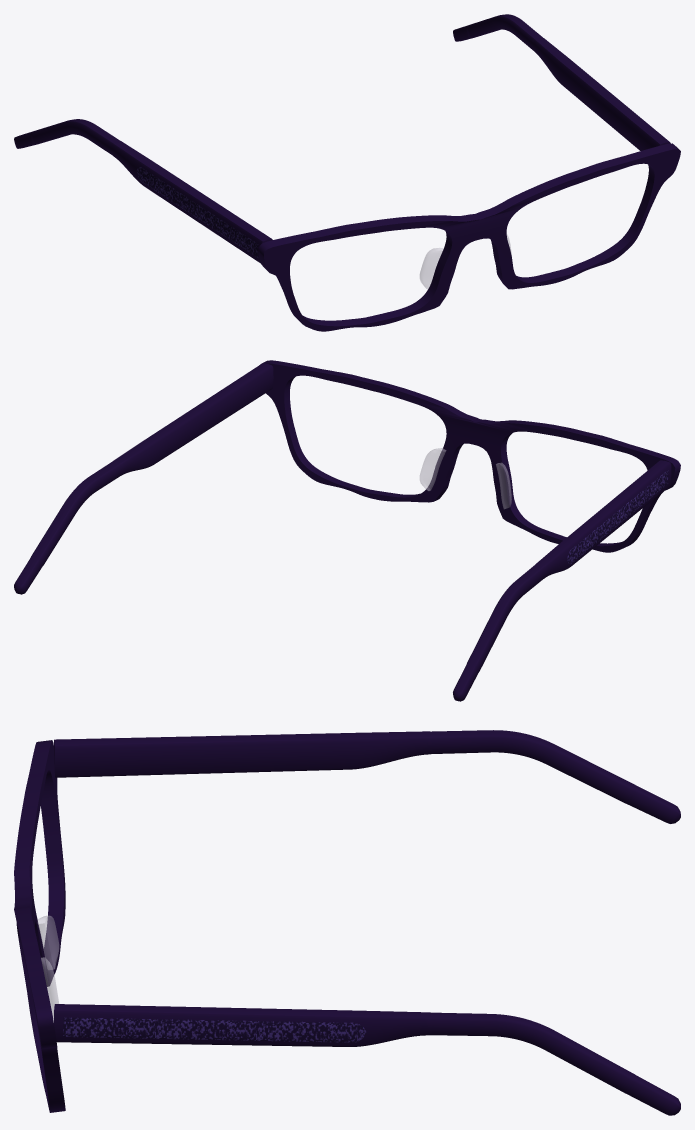
File: trendi-metro-morado-3d.glb
3 views of the same model, one above another, from view 1: azimuth 30°, elevation 25°; view 2: azimuth 150°, elevation 25°; view 3: azimuth 270°, elevation 25° (orthographic). The views are drawn at different scales.
Visible parts, largest first — view 1: frente, varilla_der, varilla_izq, plaqueta_der; view 2: frente, varilla_izq, varilla_der, plaqueta_izq; view 3: varilla_izq, varilla_der, frente, plaqueta_der.
Boxes of the visible parts, x1,y1,x2,y2 form: frente: (258, 143, 680, 331); varilla_der: (14, 119, 272, 263); varilla_izq: (453, 14, 670, 150); plaqueta_der: (419, 248, 443, 289); frente: (260, 360, 680, 552); varilla_izq: (14, 363, 273, 594); varilla_der: (453, 460, 671, 701); plaqueta_izq: (419, 448, 446, 490); varilla_izq: (54, 1004, 680, 1115); varilla_der: (54, 730, 680, 823); frente: (14, 740, 65, 1112); plaqueta_der: (37, 915, 59, 969).
Size of the model in its own units: 0.1534 by 0.036 by 0.145.
3 materials, 1 textured.
